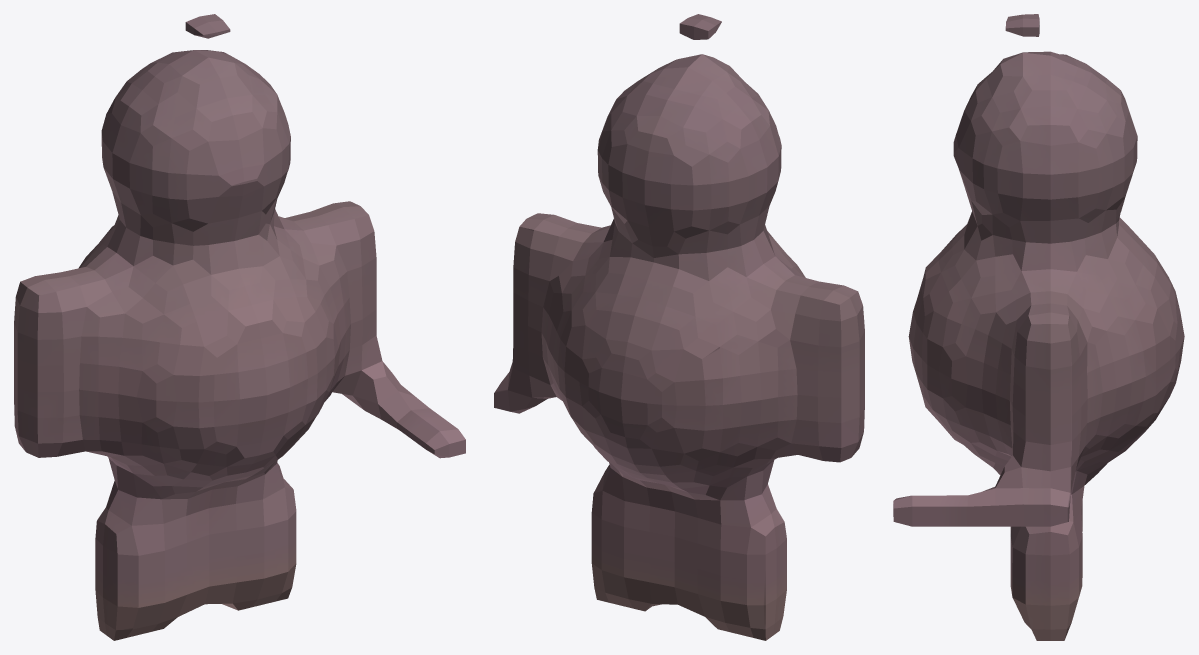
File: dokkaebiGeneral.glb
The picture shows the model from 3 angles, left to right: view 1: azimuth 30°, elevation 25°; view 2: azimuth 150°, elevation 25°; view 3: azimuth 270°, elevation 25°; orthographic projection. The views are drawn at different scales.
Visible parts, largest first — view 1: geometry_0; view 2: geometry_0; view 3: geometry_0.
Boxes of the visible parts, box(x1,y1,x2,y2) form: geometry_0: box(14, 14, 465, 640); geometry_0: box(494, 14, 864, 640); geometry_0: box(893, 14, 1184, 640).
Size of the model in its own units: 0.6186 by 0.9654 by 0.4383.
Materials: 1 (1 with a texture image).
